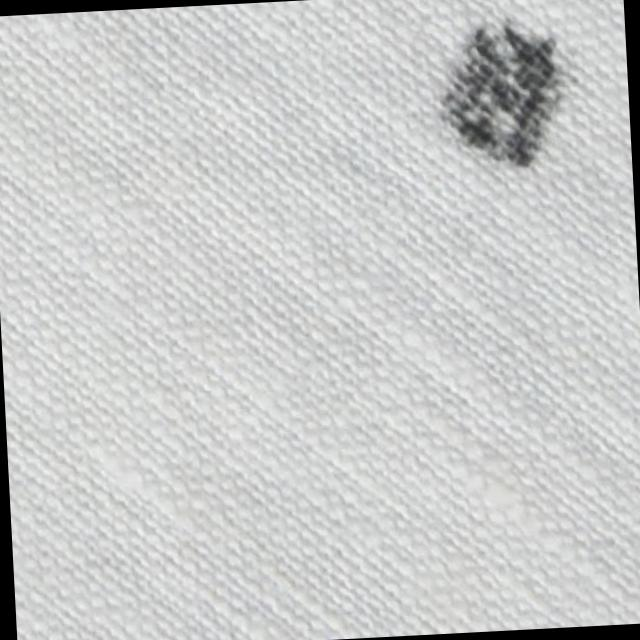Stain: (429, 13, 569, 174)
